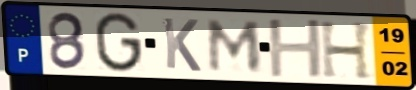8: (46, 10, 88, 72)
G: (94, 11, 144, 74)
H: (266, 18, 327, 80), (317, 20, 375, 82)
K: (160, 15, 204, 74)
M: (206, 18, 264, 74)
